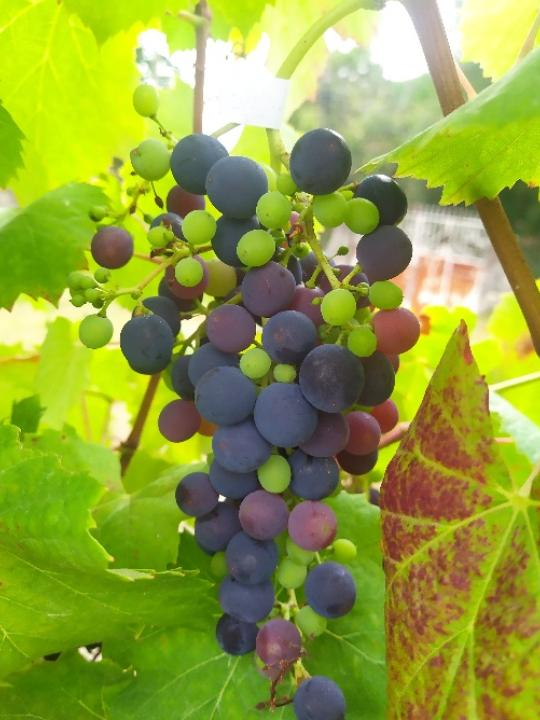grape: (65, 79, 425, 720)
